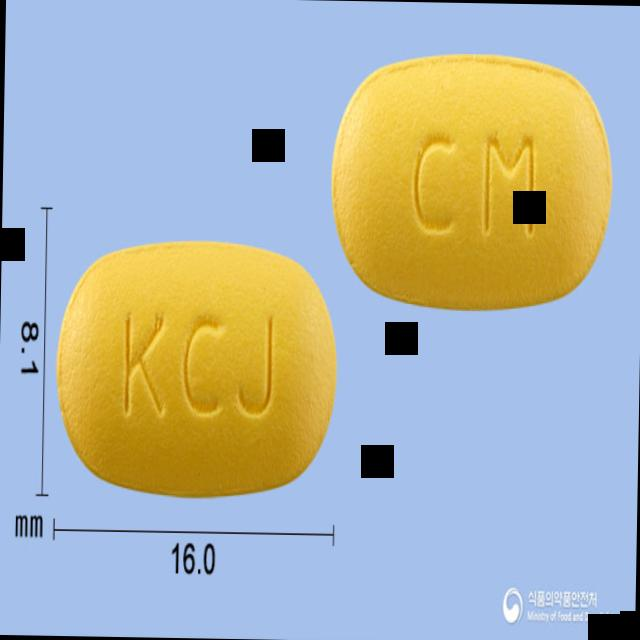Clamon Tab: (49, 227, 343, 505), (328, 51, 615, 313)
